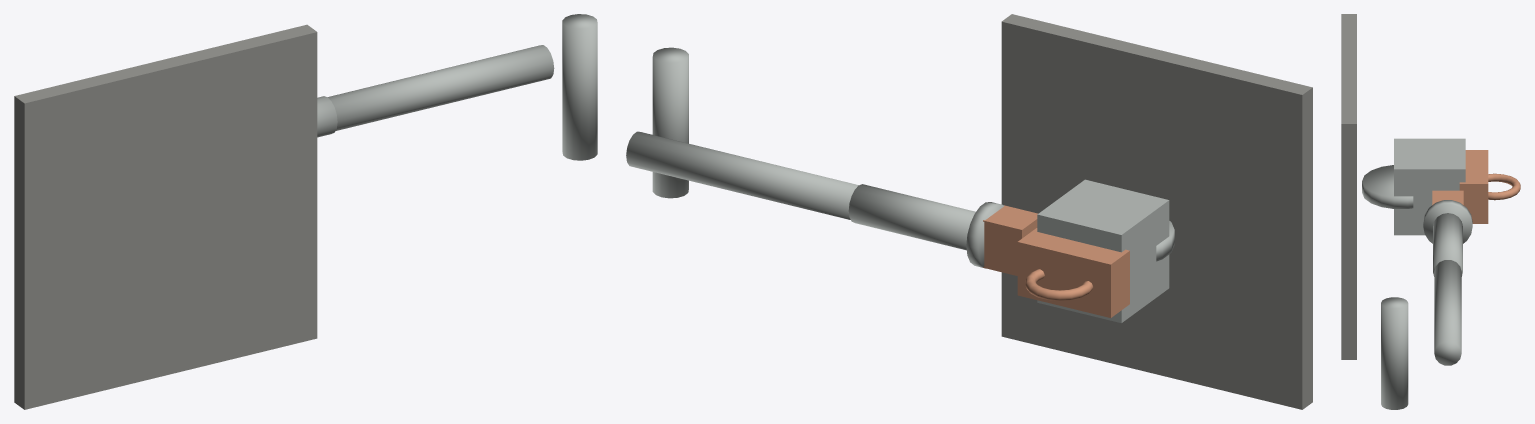
File: underground_wellhead.glb
The picture shows the model from 3 angles, left to right: view 1: azimuth 30°, elevation 25°; view 2: azimuth 150°, elevation 25°; view 3: azimuth 270°, elevation 25°; orthographic projection. The views are drawn at different scales.
Parts seen in each view (by area): view 1: surface_pad, wellhead_flowline_run, wellhead_flowline_riser, wellhead_outlet; view 2: surface_pad, wellhead_tree, wellhead_flowline_run, wellhead_master_valve, wellhead_outlet, wellhead_flowline_riser, wellhead_wing_valve, wellhead_flange_side, wellhead_master_valve_wheel; view 3: surface_pad, wellhead_tree, wellhead_flowline_riser, wellhead_flowline_run, wellhead_master_valve, wellhead_outlet, wellhead_flange_lower, wellhead_flange_side, wellhead_master_valve_wheel, wellhead_wing_valve.
Boxes of the visible parts, x1=… form: surface_pad: x1=14, y1=24, x2=317, y2=409; wellhead_flowline_run: x1=328, y1=45, x2=554, y2=130; wellhead_flowline_riser: x1=562, y1=14, x2=597, y2=160; wellhead_outlet: x1=317, y1=96, x2=337, y2=137; surface_pad: x1=1001, y1=14, x2=1312, y2=409; wellhead_tree: x1=1037, y1=179, x2=1169, y2=323; wellhead_flowline_run: x1=626, y1=131, x2=858, y2=219; wellhead_master_valve: x1=1017, y1=228, x2=1129, y2=317; wellhead_outlet: x1=848, y1=184, x2=975, y2=250; wellhead_flowline_riser: x1=652, y1=47, x2=688, y2=198; wellhead_wing_valve: x1=983, y1=205, x2=1037, y2=275; wellhead_flange_side: x1=966, y1=202, x2=1003, y2=268; wellhead_master_valve_wheel: x1=1025, y1=269, x2=1092, y2=300; surface_pad: x1=1341, y1=14, x2=1356, y2=359; wellhead_tree: x1=1394, y1=138, x2=1465, y2=235; wellhead_flowline_riser: x1=1381, y1=297, x2=1408, y2=409; wellhead_flowline_run: x1=1434, y1=260, x2=1461, y2=365; wellhead_master_valve: x1=1459, y1=150, x2=1488, y2=223; wellhead_outlet: x1=1433, y1=213, x2=1462, y2=276; wellhead_flange_lower: x1=1362, y1=165, x2=1413, y2=208; wellhead_flange_side: x1=1423, y1=200, x2=1472, y2=243; wellhead_master_valve_wheel: x1=1488, y1=173, x2=1520, y2=200; wellhead_wing_valve: x1=1432, y1=190, x2=1463, y2=205.
Size of the model in its own units: 4.13 by 2 by 1.38.
